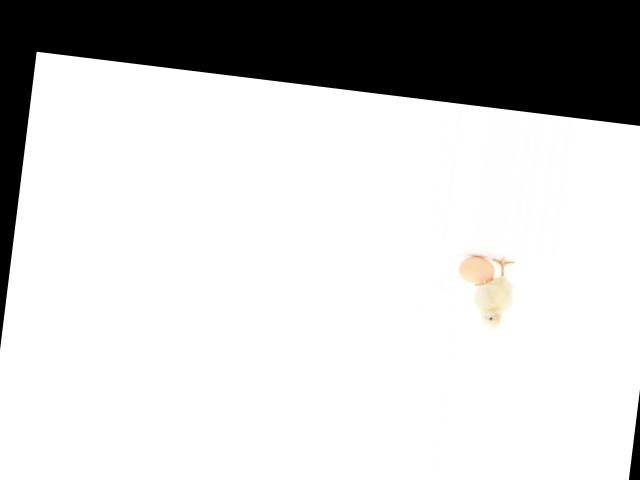egg: (457, 254, 497, 286)
